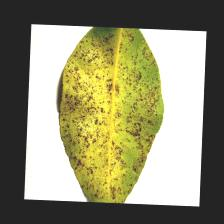canker: (74, 68, 150, 160)
